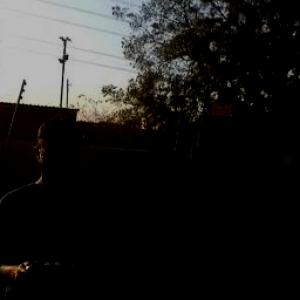follow: (0, 107, 110, 299)
